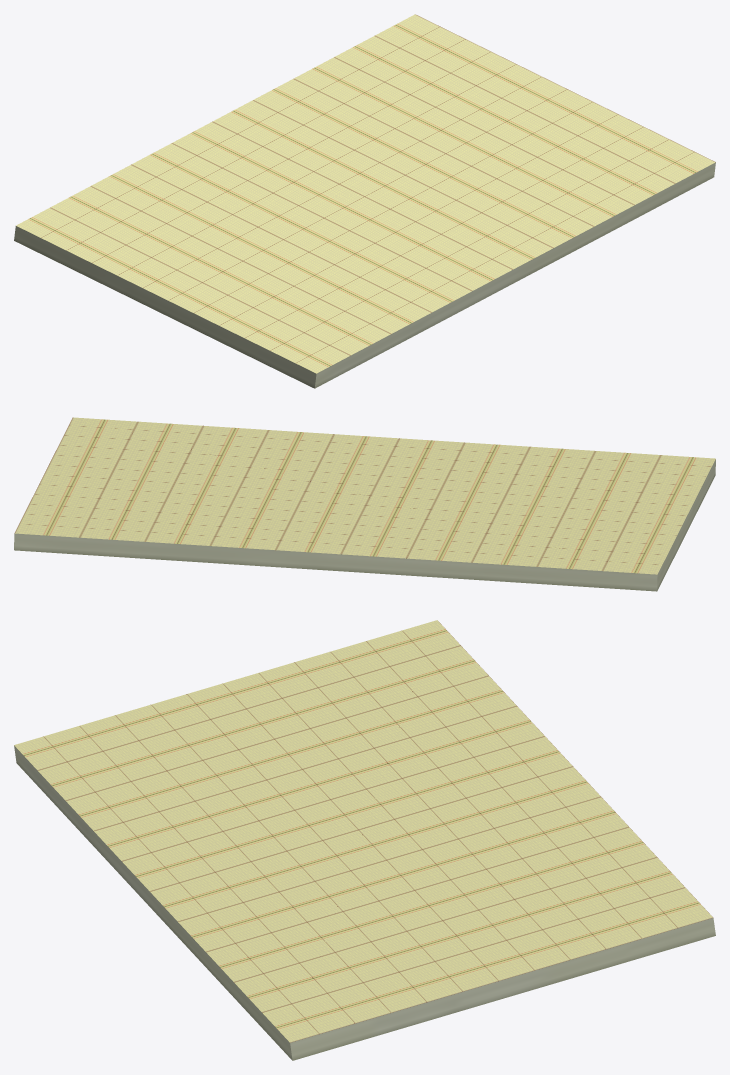
Rendered from libro.gltf.
3 renders of one model, top to bottom at view 1: azimuth 30°, elevation 25°; view 2: azimuth 150°, elevation 25°; view 3: azimuth 270°, elevation 25°, orthographic. The views are drawn at different scales.
Size of the model in its own units: 1.69 by 0.157 by 1.36.
Materials: 2 (2 with a texture image).
